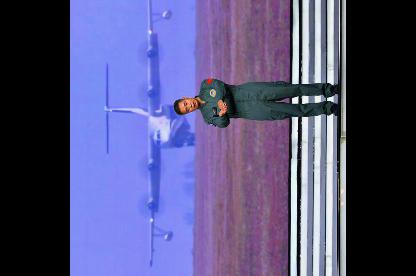AG600: (103, 0, 195, 268)
